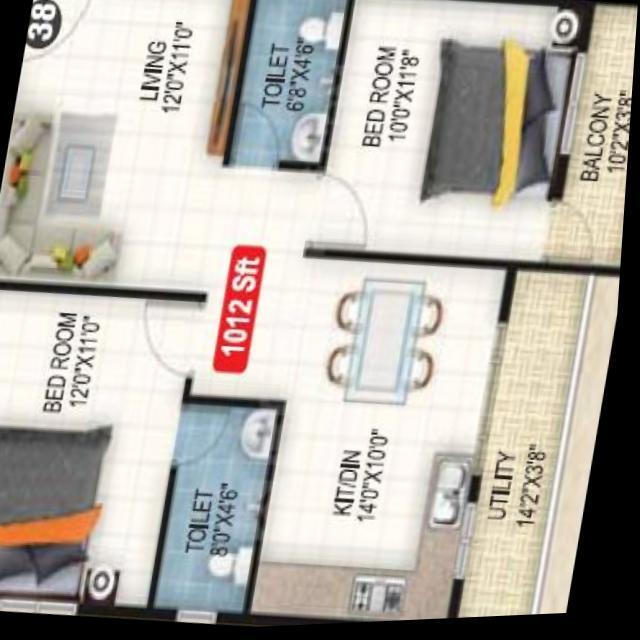Balcony-Sitout: (546, 6, 638, 278)
Bedroom: (307, 0, 592, 271), (0, 286, 210, 622)
Dining: (322, 270, 454, 415)
Kitchen: (254, 404, 486, 629)
Toilet: (157, 395, 292, 628), (228, 0, 349, 175)
Utility: (453, 269, 604, 623)
